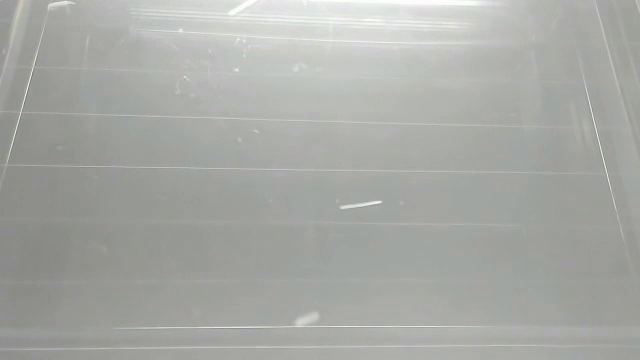alpha: (337, 197, 388, 213), (218, 1, 260, 17), (293, 310, 326, 329), (45, 1, 78, 12)
